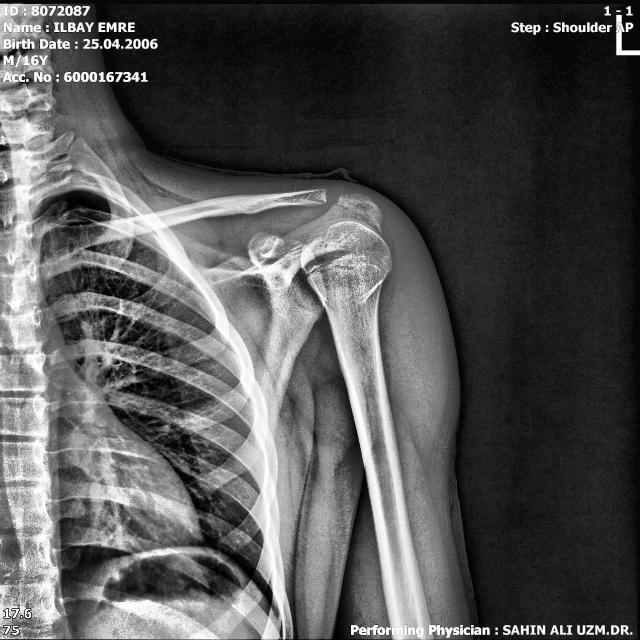Fracture: (300, 259, 396, 290)
